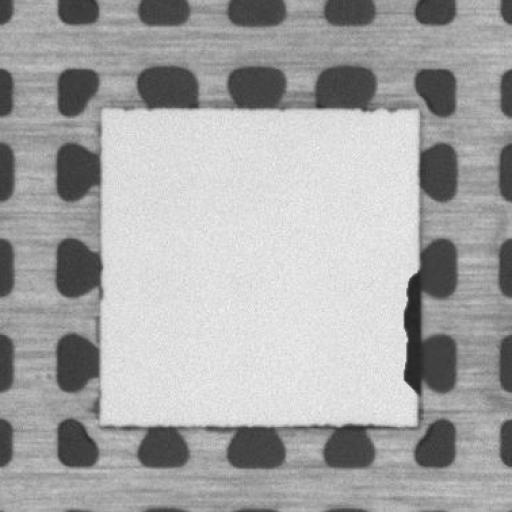DIE_BROKEN: (398, 267, 423, 396)
